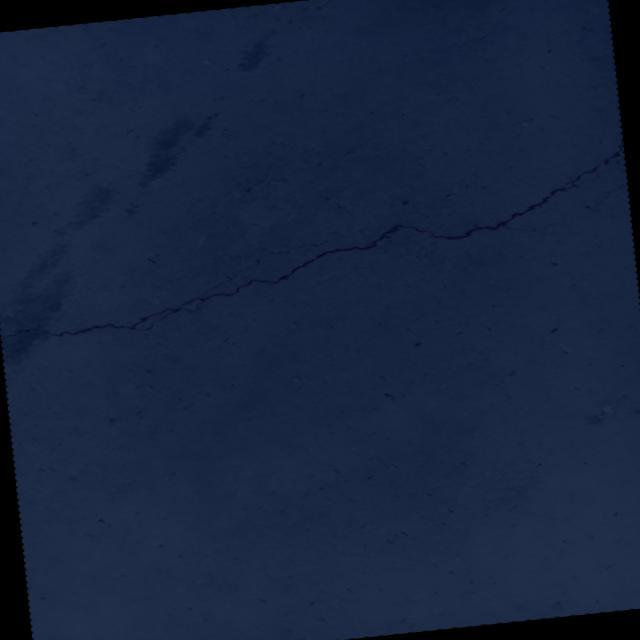crack: (0, 139, 637, 346)
